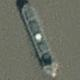ship: (15, 0, 65, 40)
